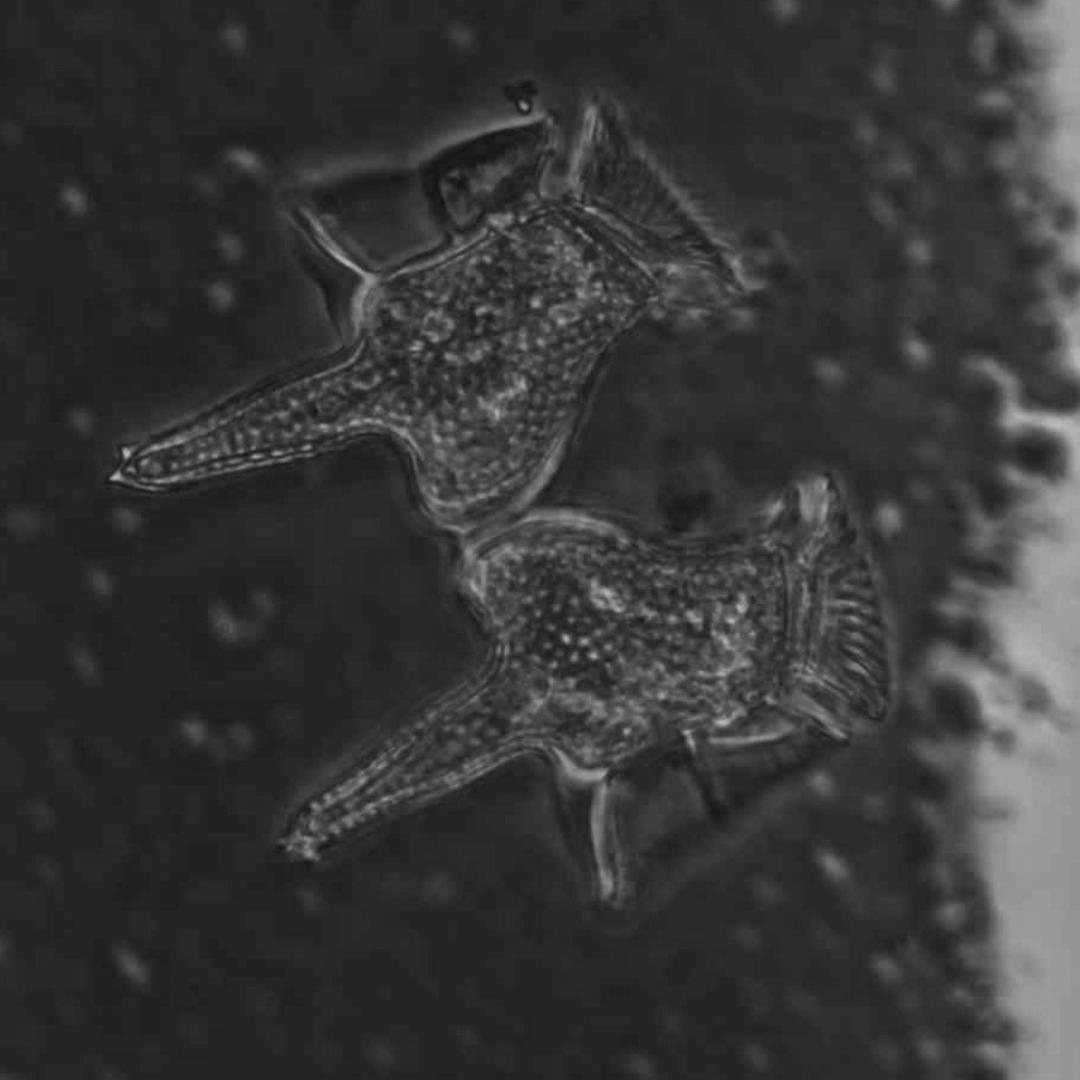dinophysis_caudata: (127, 79, 752, 527), (292, 470, 894, 924)
